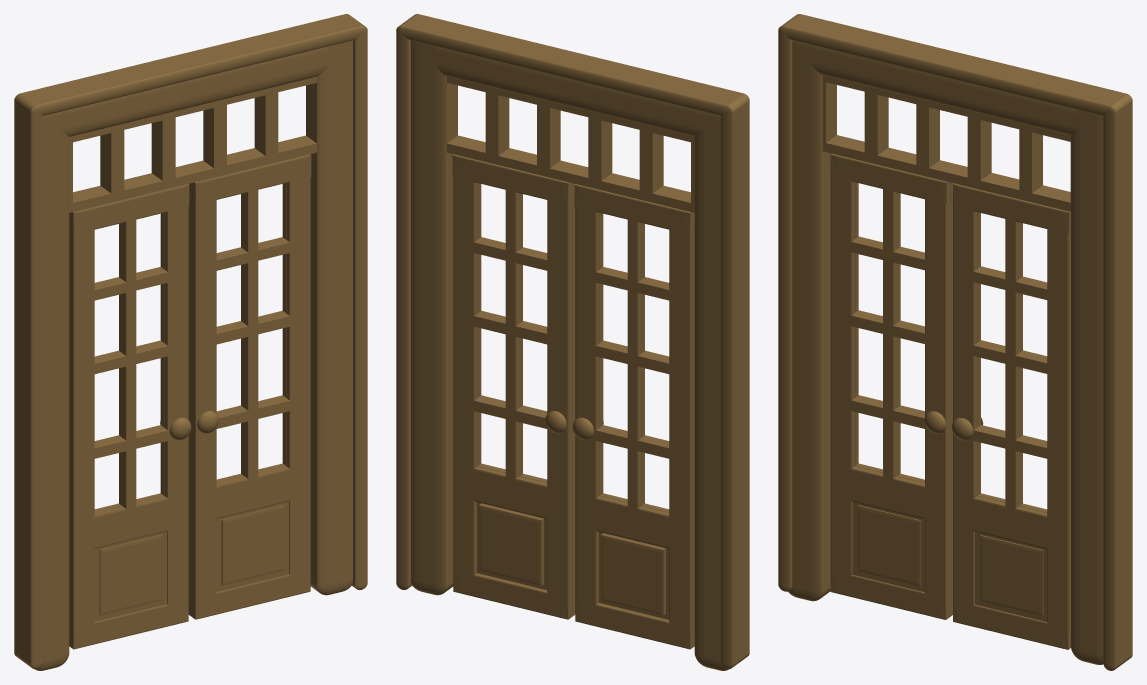
File: door.glb
3 views of the same model, side by side, from view 1: azimuth 30°, elevation 25°; view 2: azimuth 150°, elevation 25°; view 3: azimuth 330°, elevation 25° (orthographic).
Parts seen in each view (by area): view 1: Mesh_Mesh_head_geo.001_lambert2SG.001; view 2: Mesh_Mesh_head_geo.001_lambert2SG.001; view 3: Mesh_Mesh_head_geo.001_lambert2SG.001.
Boxes of the visible parts, <box> form: Mesh_Mesh_head_geo.001_lambert2SG.001: <box>14,14,367,670</box>; Mesh_Mesh_head_geo.001_lambert2SG.001: <box>396,14,749,670</box>; Mesh_Mesh_head_geo.001_lambert2SG.001: <box>778,14,1132,670</box>.
Size of the model in its own units: 0.0532 by 0.086 by 0.005.
